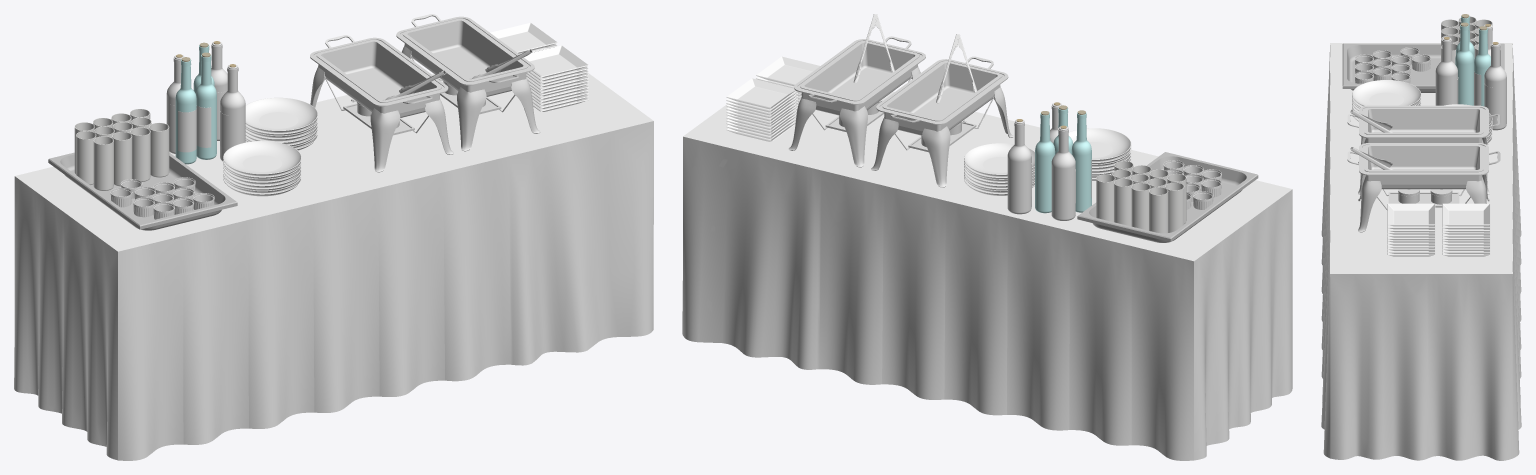
File: 1067_buffet_set1.glb
3 views of the same model, side by side, from view 1: azimuth 30°, elevation 25°; view 2: azimuth 150°, elevation 25°; view 3: azimuth 270°, elevation 25° (orthographic). The views are drawn at different scales.
Parts seen in each view (by area): view 1: table, Body.001, Body, ドリンク瓶, ゾンビグラス, 角皿, 丸皿2, バット.001, 丸皿1, ココット; view 2: table, Body.001, Body, ドリンク瓶, ゾンビグラス, 角皿, バット.001, 丸皿1, 丸皿2, ココット; view 3: table, Body, 角皿, ドリンク瓶, Body.001, バット.001, ココット, 丸皿2, ゾンビグラス, トング.001, トング.
Boxes of the visible parts, left/top/right/bottom form: table: left=14, top=72, right=653, bottom=460; Body.001: left=310, top=35, right=453, bottom=172; Body: left=396, top=14, right=540, bottom=151; ドリンク瓶: left=166, top=41, right=245, bottom=164; ゾンビグラス: left=74, top=109, right=169, bottom=190; 角皿: left=490, top=22, right=588, bottom=111; 丸皿2: left=223, top=141, right=301, bottom=196; バット.001: left=48, top=152, right=237, bottom=230; 丸皿1: left=245, top=97, right=317, bottom=150; ココット: left=110, top=177, right=214, bottom=219; table: left=682, top=91, right=1292, bottom=460; Body.001: left=871, top=56, right=1013, bottom=187; Body: left=788, top=36, right=925, bottom=167; ドリンク瓶: left=1007, top=102, right=1091, bottom=220; ゾンビグラス: left=1096, top=161, right=1186, bottom=233; 角皿: left=726, top=56, right=819, bottom=141; バット.001: left=1077, top=152, right=1258, bottom=242; 丸皿1: left=964, top=143, right=1034, bottom=195; 丸皿2: left=1068, top=128, right=1131, bottom=180; ココット: left=1163, top=160, right=1221, bottom=209; table: left=1321, top=43, right=1521, bottom=460; Body: left=1347, top=143, right=1500, bottom=232; 角皿: left=1387, top=203, right=1490, bottom=256; ドリンク瓶: left=1435, top=14, right=1506, bottom=130; Body.001: left=1347, top=105, right=1500, bottom=194; バット.001: left=1342, top=43, right=1504, bottom=92; ココット: left=1355, top=47, right=1430, bottom=83; 丸皿2: left=1352, top=80, right=1421, bottom=121; ゾンビグラス: left=1441, top=16, right=1492, bottom=63; トング.001: left=1350, top=109, right=1392, bottom=132; トング: left=1350, top=147, right=1392, bottom=169.
Bounding box in the file's own units: 1.84 × 0.9971 × 0.6603.
